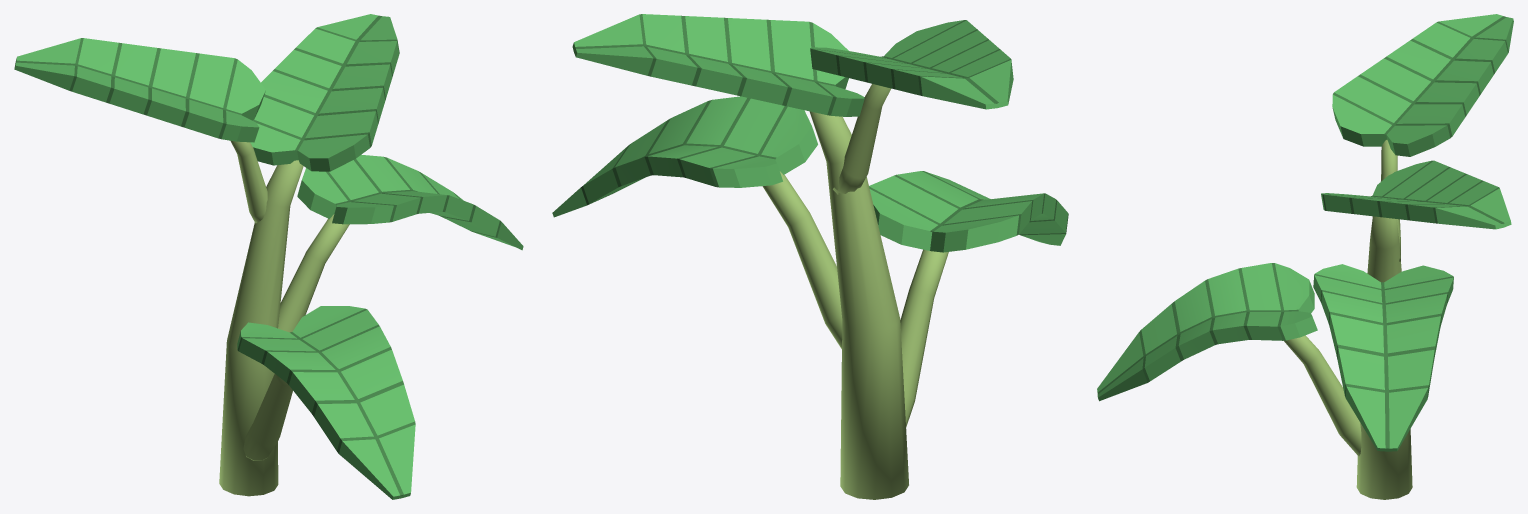
Rendered from BeanPlantS2.fbx.
3 views of the same model, side by side, from view 1: azimuth 30°, elevation 25°; view 2: azimuth 150°, elevation 25°; view 3: azimuth 270°, elevation 25° (orthographic). The views are drawn at different scales.
Parts seen in each view (by area): view 1: Cylinder.006; view 2: Cylinder.006; view 3: Cylinder.006.
Part boxes in pixels (bbox=[...]): Cylinder.006: bbox=[14, 14, 523, 499]; Cylinder.006: bbox=[552, 14, 1068, 499]; Cylinder.006: bbox=[1097, 14, 1513, 499].
Bounding box in the file's own units: 418 × 381 × 359.
